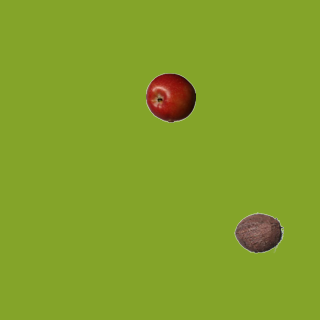Apple Braeburn: (145, 72, 195, 122)
Cocos: (233, 207, 283, 257)
